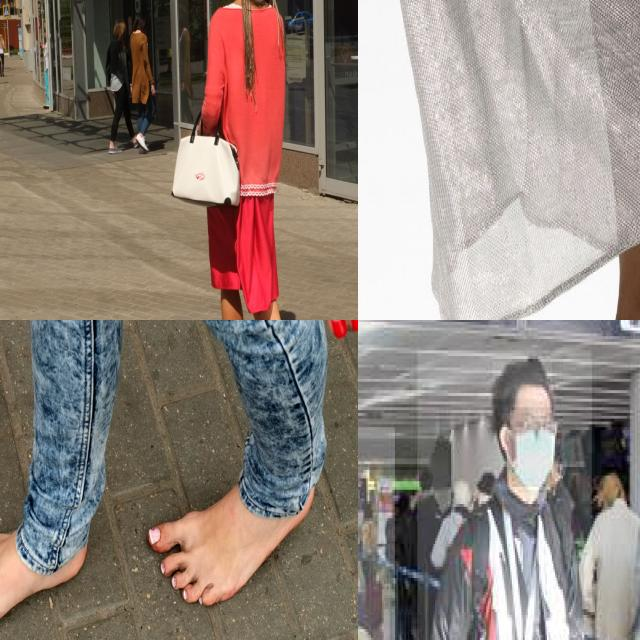Barefoots: (148, 477, 315, 605), (0, 527, 87, 640)
Sandals: (421, 49, 640, 320)
face_mask: (512, 407, 553, 490)
head_nohelmet: (492, 362, 554, 402)
person: (417, 350, 593, 640)
